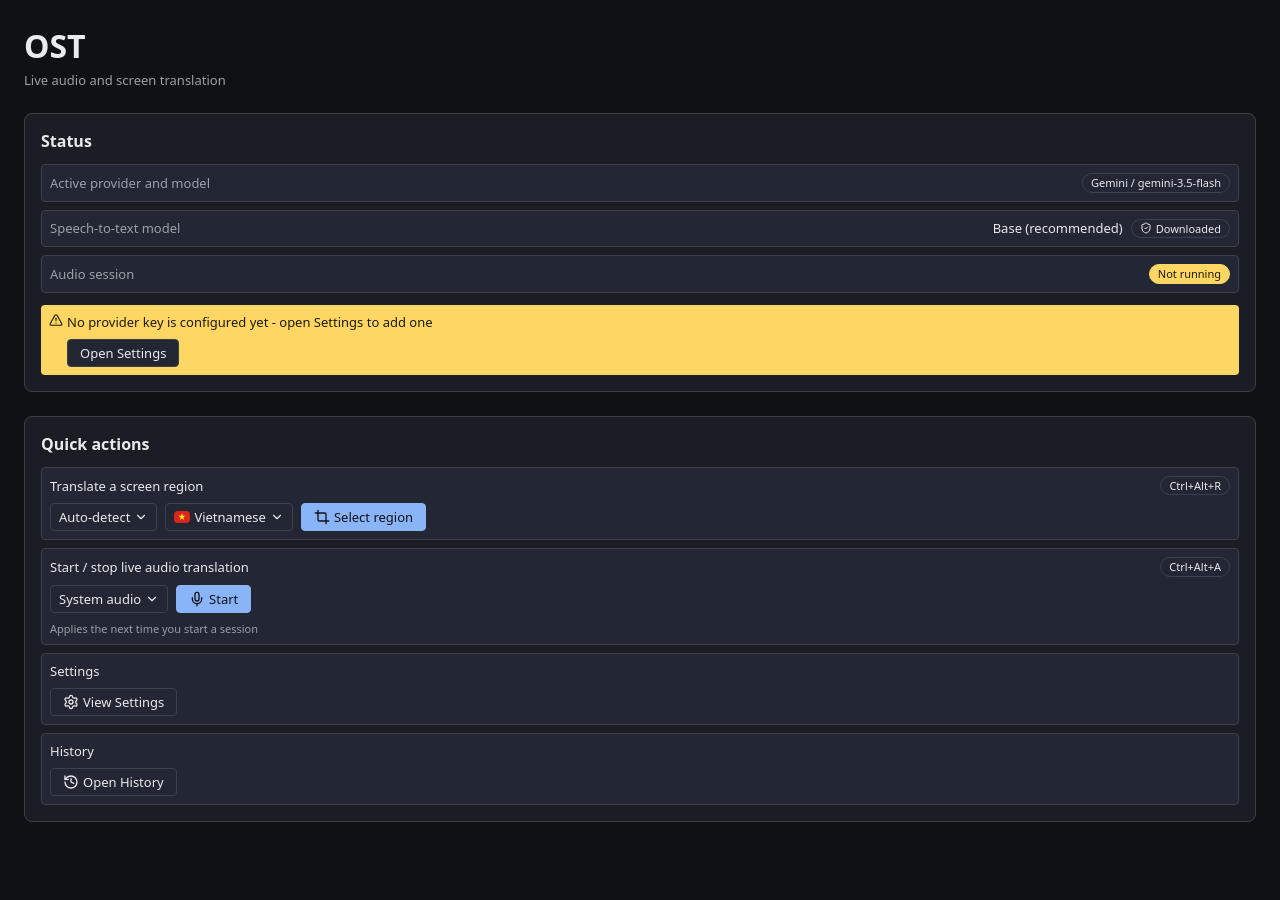
Scenario: App (home screen, FR-04 TASK-028) › starts a session and reflects the running state, then stops it
The width and height of the screenshot is (1280, 900).
Expected: the text "Start / stop live audio translation" is shown, [50, 558, 249, 576]
Click the button "Start" at point(214, 599), box [176, 585, 251, 613]
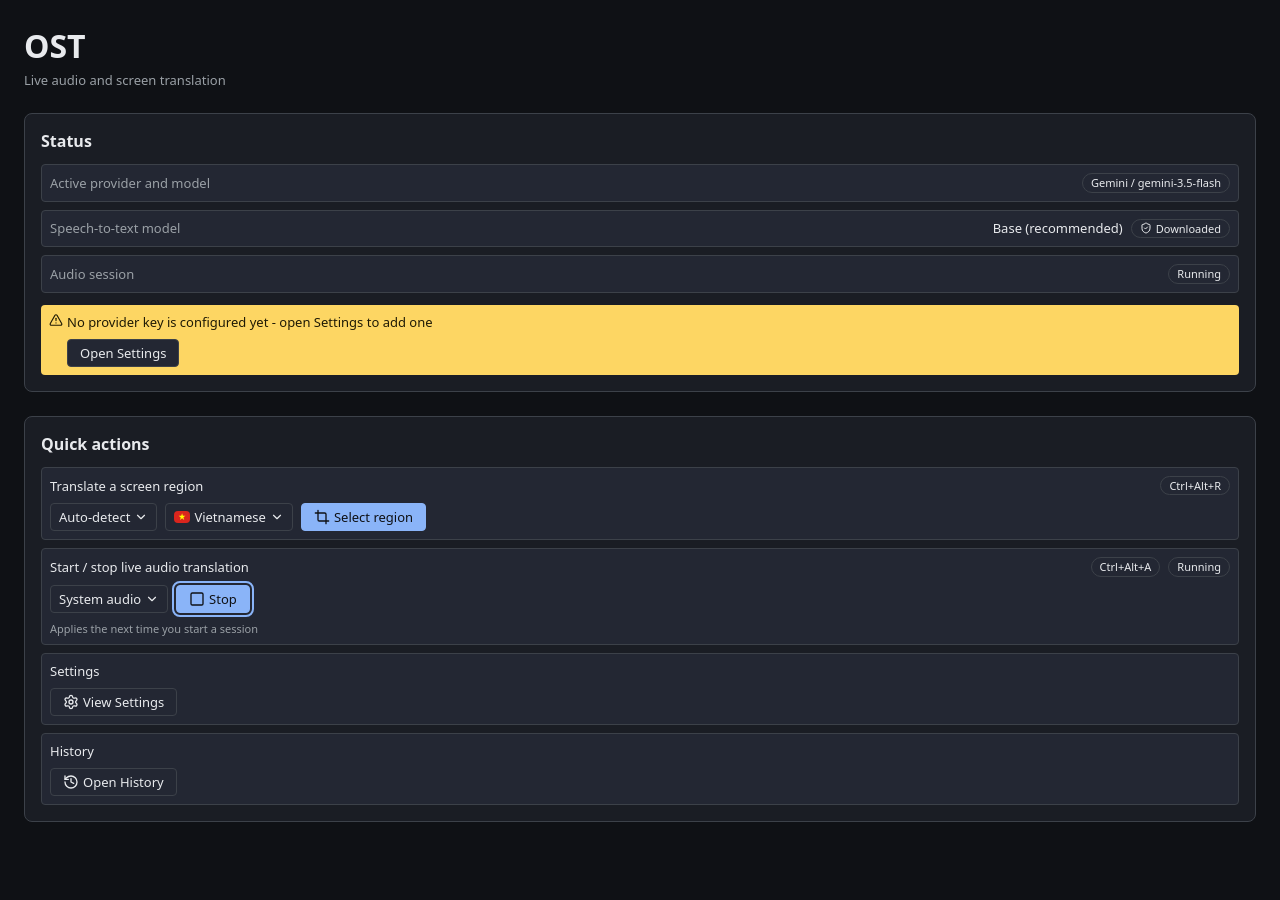
Expected: the text "Running" in the row of "Audio session" is shown, [1177, 266, 1221, 281]
Now the button "Stop" is shown
Click the button "Stop" at point(213, 599), box [176, 585, 250, 613]
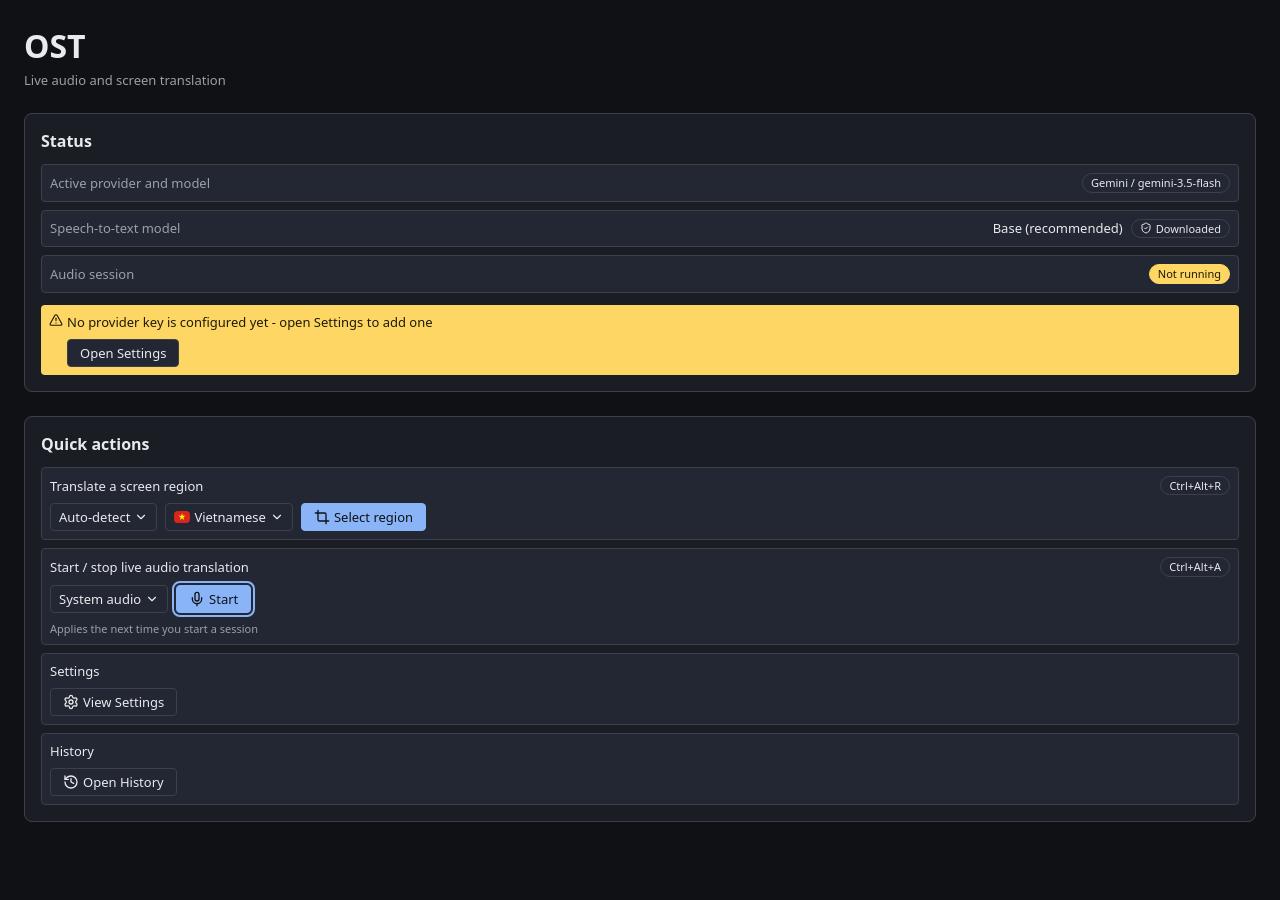
Now the button "Start" is shown, box [176, 585, 251, 613]
